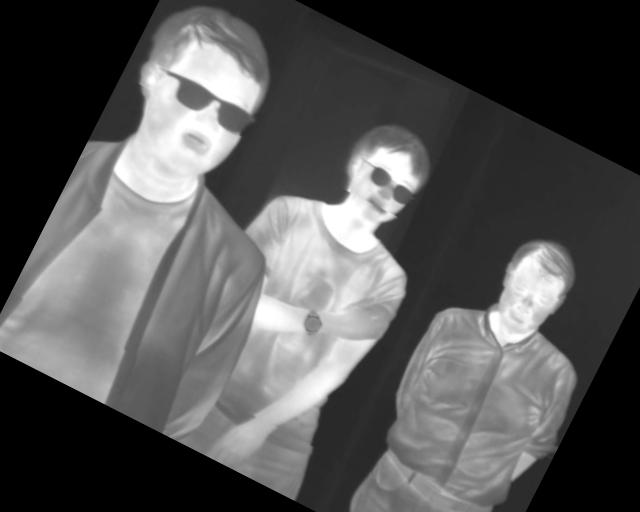face: (102, 1, 297, 198), (325, 108, 445, 238), (480, 227, 587, 346)
